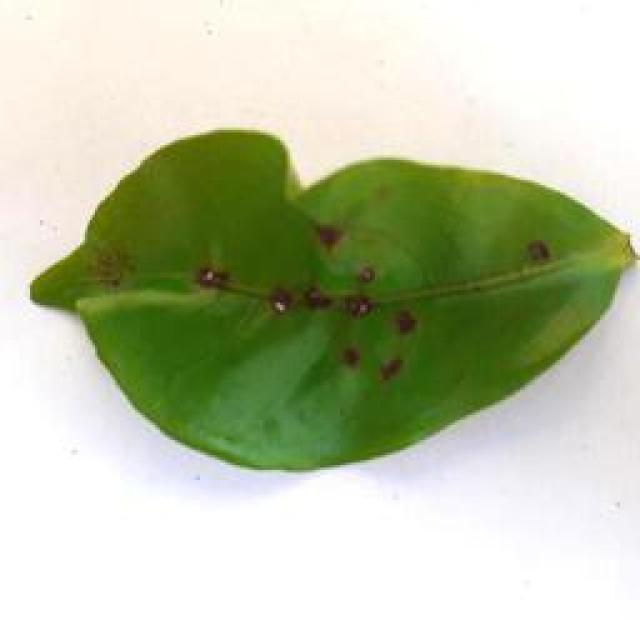Helopeltis: (30, 125, 640, 480)
